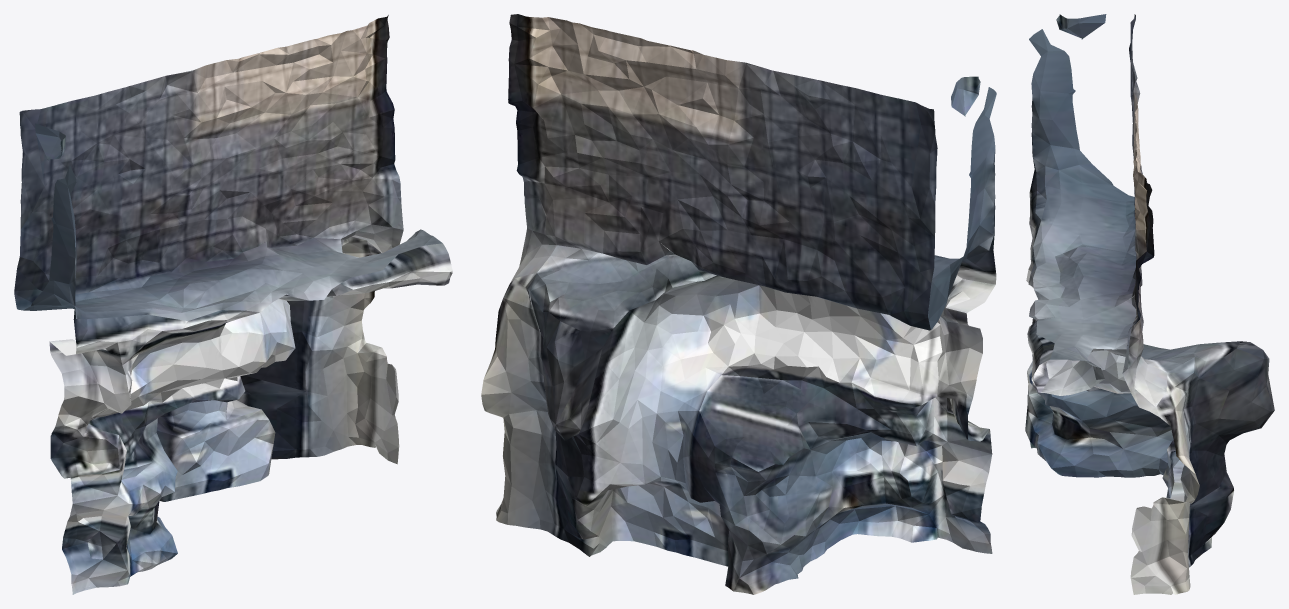
The model's file is tile_5_18_16_tex.obj.
3 renders of one model, left to right at view 1: azimuth 30°, elevation 25°; view 2: azimuth 150°, elevation 25°; view 3: azimuth 270°, elevation 25°, orthographic. The views are drawn at different scales.
Visible parts, largest first — view 1: obj_0; view 2: obj_0; view 3: obj_0.
Boxes of the visible parts, <box> form: obj_0: <box>14,15,452,594</box>; obj_0: <box>481,14,996,594</box>; obj_0: <box>1025,14,1274,594</box>.
Bounding box in the file's own units: 5.01 × 5.64 × 3.11.
1 material, 1 textured.
